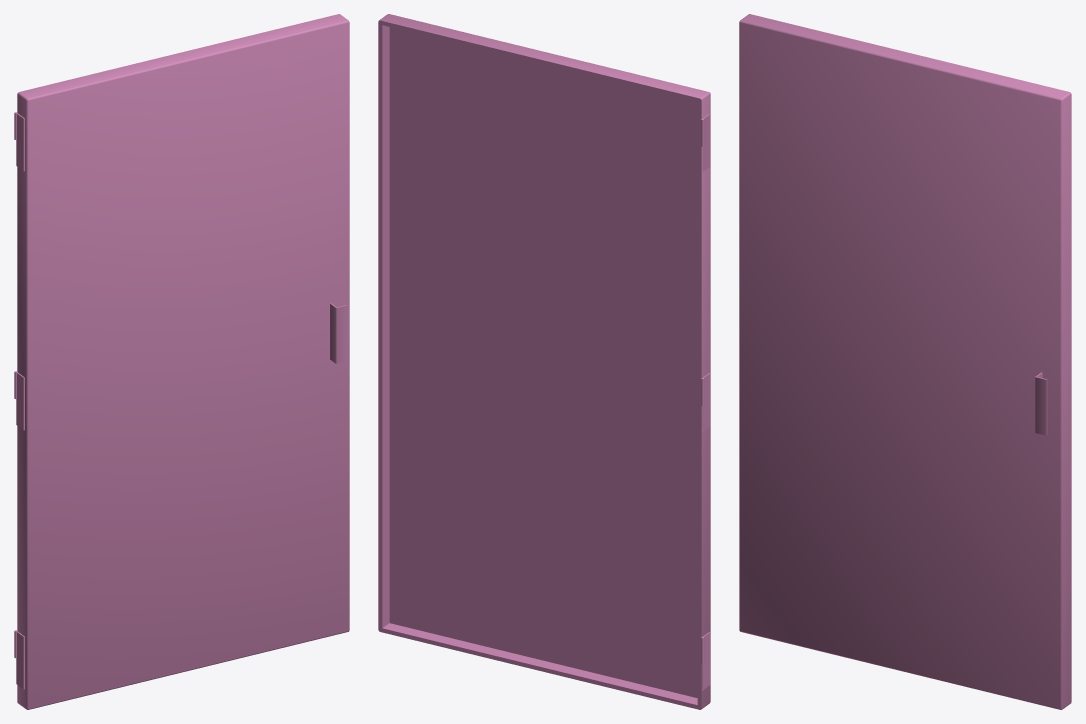
Rendered from Box_Door.fbx.
3 views of the same model, side by side, from view 1: azimuth 30°, elevation 25°; view 2: azimuth 150°, elevation 25°; view 3: azimuth 330°, elevation 25° (orthographic).
Visible parts, largest first — view 1: Box_Door_LOD0; view 2: Box_Door_LOD0; view 3: Box_Door_LOD0.
Boxes of the visible parts, bbox=[...] form: Box_Door_LOD0: bbox=[14, 14, 349, 709]; Box_Door_LOD0: bbox=[378, 14, 710, 709]; Box_Door_LOD0: bbox=[739, 14, 1071, 709].
Size of what is drawn, in the model's own units: 0.8552 by 1.53 by 0.0773.
